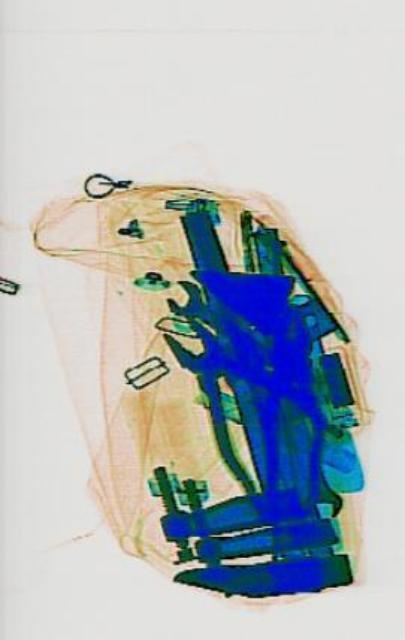Pliers: (140, 267, 331, 525)
Wrench: (161, 270, 276, 372)
